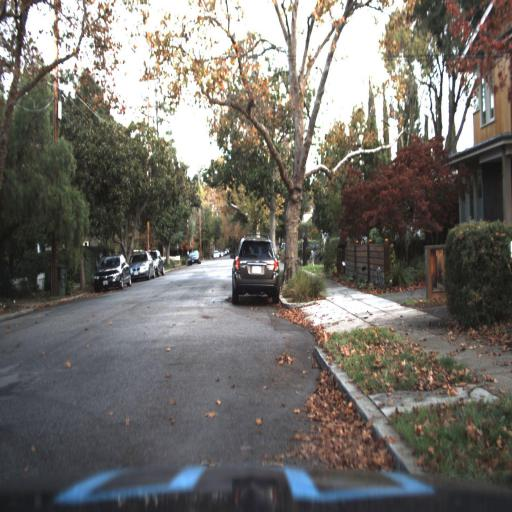car: (226, 234, 284, 304), (92, 248, 130, 292), (128, 250, 152, 282), (151, 248, 165, 278), (186, 248, 202, 266)
